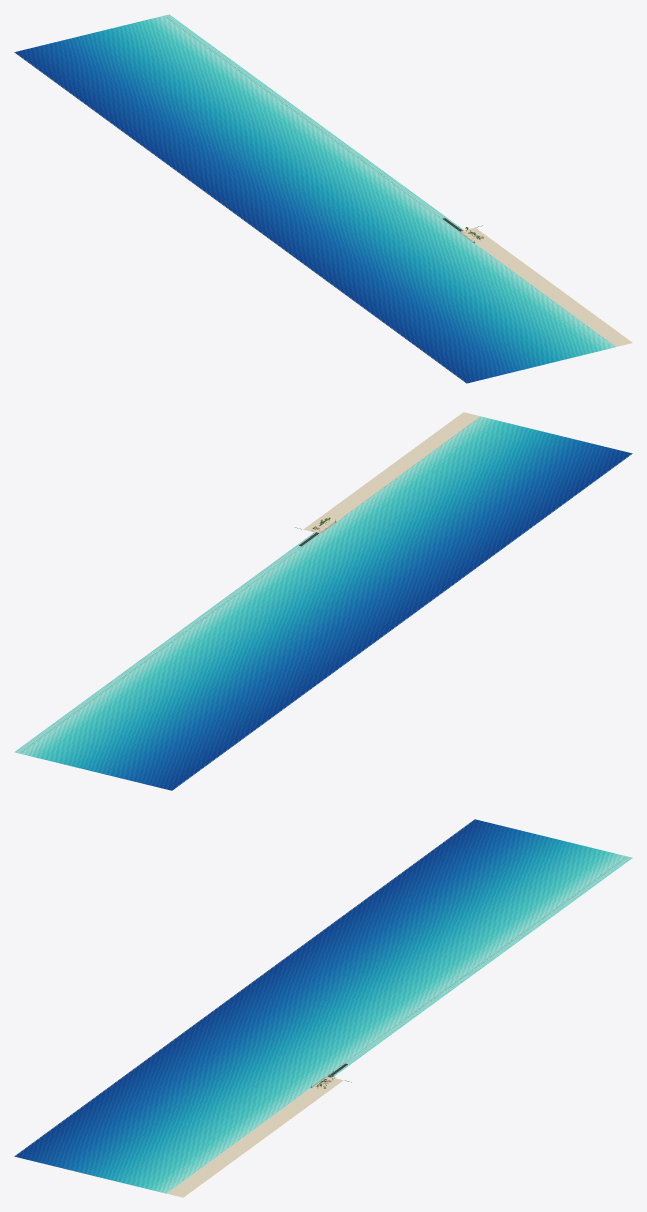
The model's file is lugar-puntacana.glb.
The picture shows the model from 3 angles, top to bottom: view 1: azimuth 30°, elevation 25°; view 2: azimuth 150°, elevation 25°; view 3: azimuth 330°, elevation 25°; orthographic projection.
Visible parts, largest first — view 1: planoE, luzG-cerca; view 2: planoE, luzG-cerca; view 3: planoE, luzG-cerca.
Part boxes in pixels (x1,y1,x2,y2): planoE: [14, 14, 615, 383]; luzG-cerca: [459, 227, 632, 346]; planoE: [14, 416, 632, 790]; luzG-cerca: [303, 412, 480, 533]; planoE: [14, 819, 632, 1193]; luzG-cerca: [167, 1076, 343, 1197].
Bounding box in the file's own units: 490 × 10.53 × 2200.
8 materials, 5 textured.
